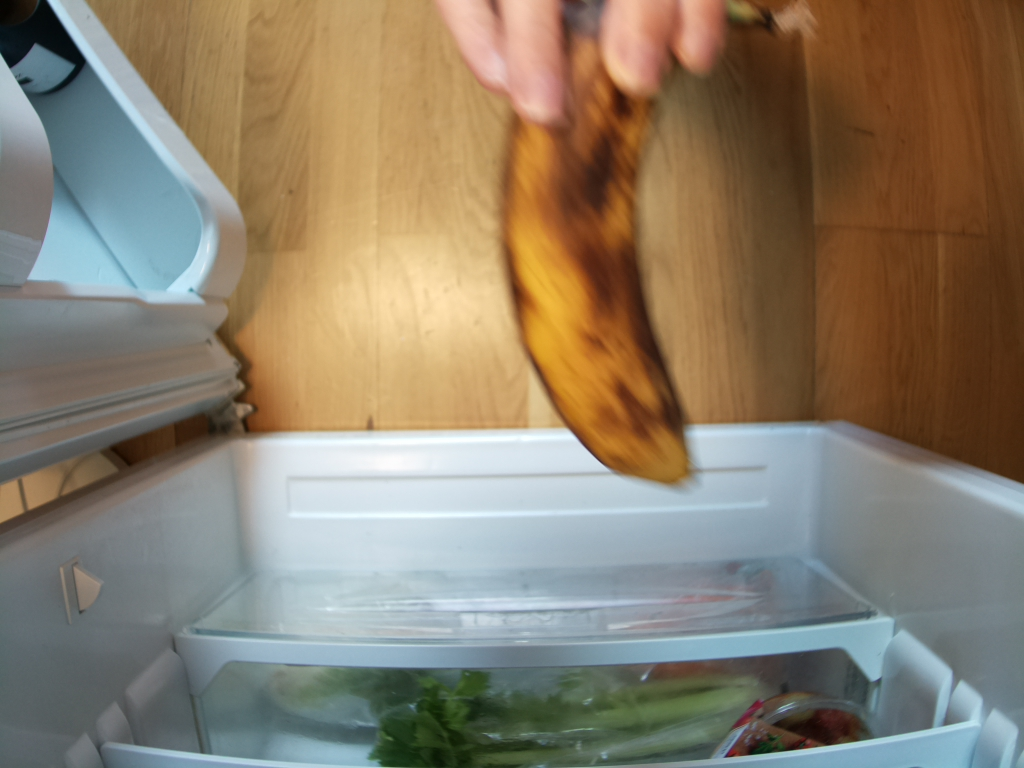banana-overripe: (498, 1, 815, 487)
